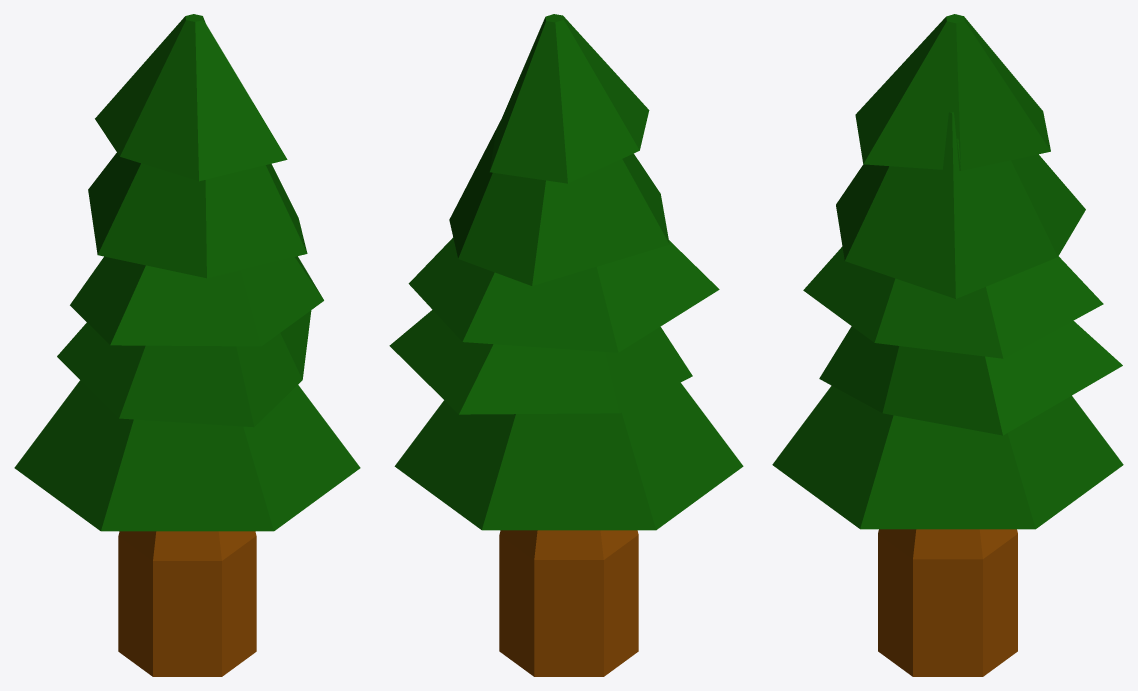
The model's file is polypine.fbx.
3 views of the same model, side by side, from view 1: azimuth 30°, elevation 25°; view 2: azimuth 150°, elevation 25°; view 3: azimuth 270°, elevation 25° (orthographic).
Visible parts, largest first — view 1: Cylinder.001, Cylinder.004, Cylinder, Cylinder.005, Cylinder.002, Cylinder.003; view 2: Cylinder.001, Cylinder.003, Cylinder.004, Cylinder, Cylinder.002, Cylinder.005; view 3: Cylinder.001, Cylinder.004, Cylinder, Cylinder.002, Cylinder.005, Cylinder.003.
Part boxes in pixels (<box>): Cylinder.001: <box>14,380,360,531</box>; Cylinder.004: <box>88,153,307,278</box>; Cylinder: <box>118,531,256,676</box>; Cylinder.005: <box>95,14,287,181</box>; Cylinder.002: <box>57,310,311,427</box>; Cylinder.003: <box>70,256,323,346</box>; Cylinder.001: <box>394,382,743,530</box>; Cylinder.003: <box>408,237,719,352</box>; Cylinder.004: <box>449,120,669,285</box>; Cylinder: <box>499,530,638,676</box>; Cylinder.002: <box>389,310,692,414</box>; Cylinder.005: <box>489,14,649,183</box>; Cylinder.001: <box>772,385,1123,529</box>; Cylinder.004: <box>836,112,1085,298</box>; Cylinder: <box>878,529,1017,676</box>; Cylinder.002: <box>819,320,1122,435</box>; Cylinder.005: <box>855,14,1050,170</box>; Cylinder.003: <box>803,246,1103,358</box>.
Size of the model in its own units: 1103 by 2358 by 1177.
